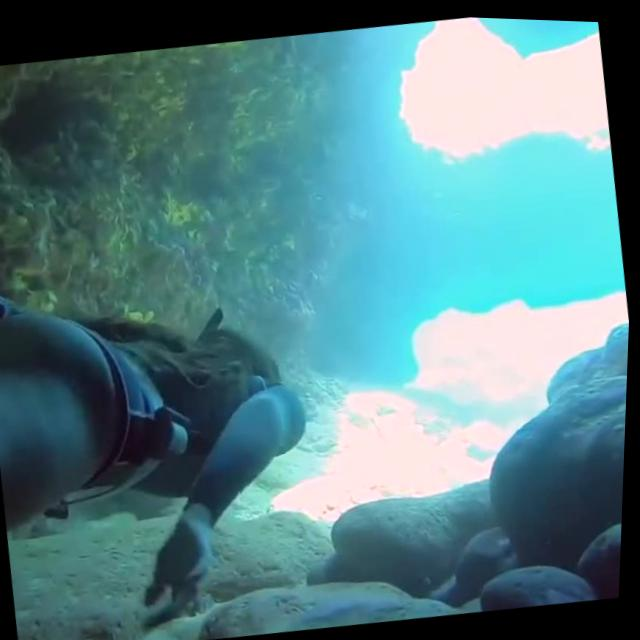human: (0, 165, 346, 640)
